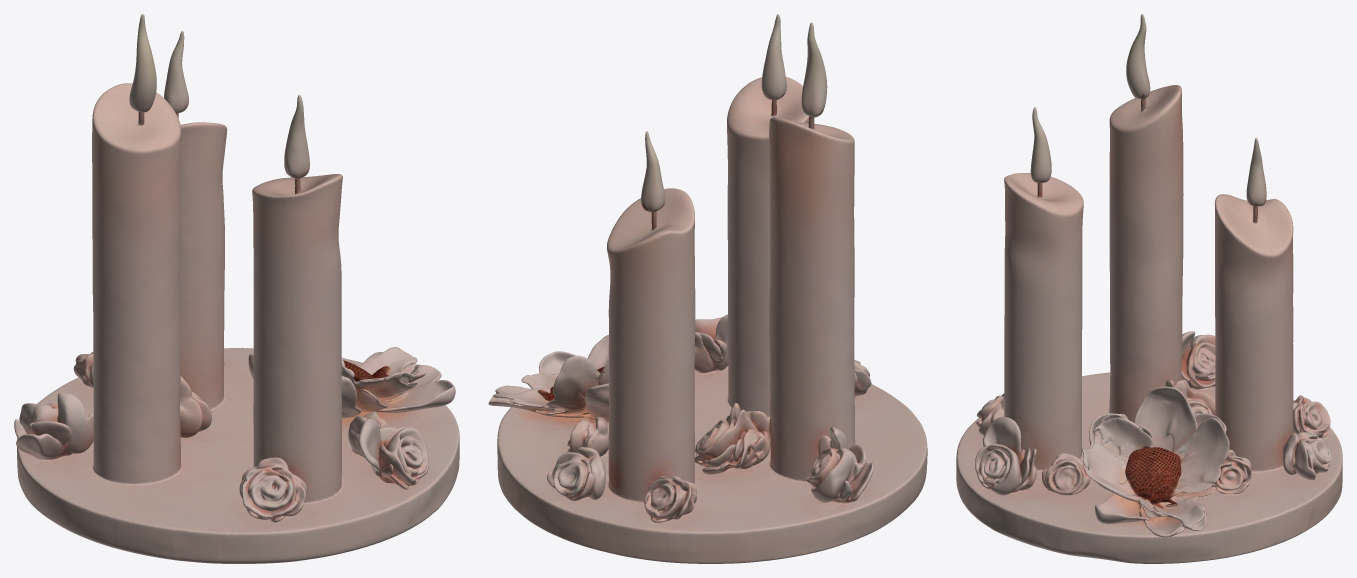
File: detailed_realistic_model_floatingcandles_14.glb
The picture shows the model from 3 angles, left to right: view 1: azimuth 30°, elevation 25°; view 2: azimuth 150°, elevation 25°; view 3: azimuth 270°, elevation 25°; orthographic projection. The views are drawn at different scales.
Visible parts, largest first — view 1: tripo_node_dadbe4db-eea5-48c8-abf7-ea2fa85d195f; view 2: tripo_node_dadbe4db-eea5-48c8-abf7-ea2fa85d195f; view 3: tripo_node_dadbe4db-eea5-48c8-abf7-ea2fa85d195f.
Boxes of the visible parts, left/top/right/bottom form: tripo_node_dadbe4db-eea5-48c8-abf7-ea2fa85d195f: left=14, top=14, right=459, bottom=563; tripo_node_dadbe4db-eea5-48c8-abf7-ea2fa85d195f: left=488, top=14, right=927, bottom=563; tripo_node_dadbe4db-eea5-48c8-abf7-ea2fa85d195f: left=956, top=14, right=1342, bottom=563.
Size of the model in its own units: 0.8654 by 1 by 0.8121.
Materials: 1 (1 with a texture image).
